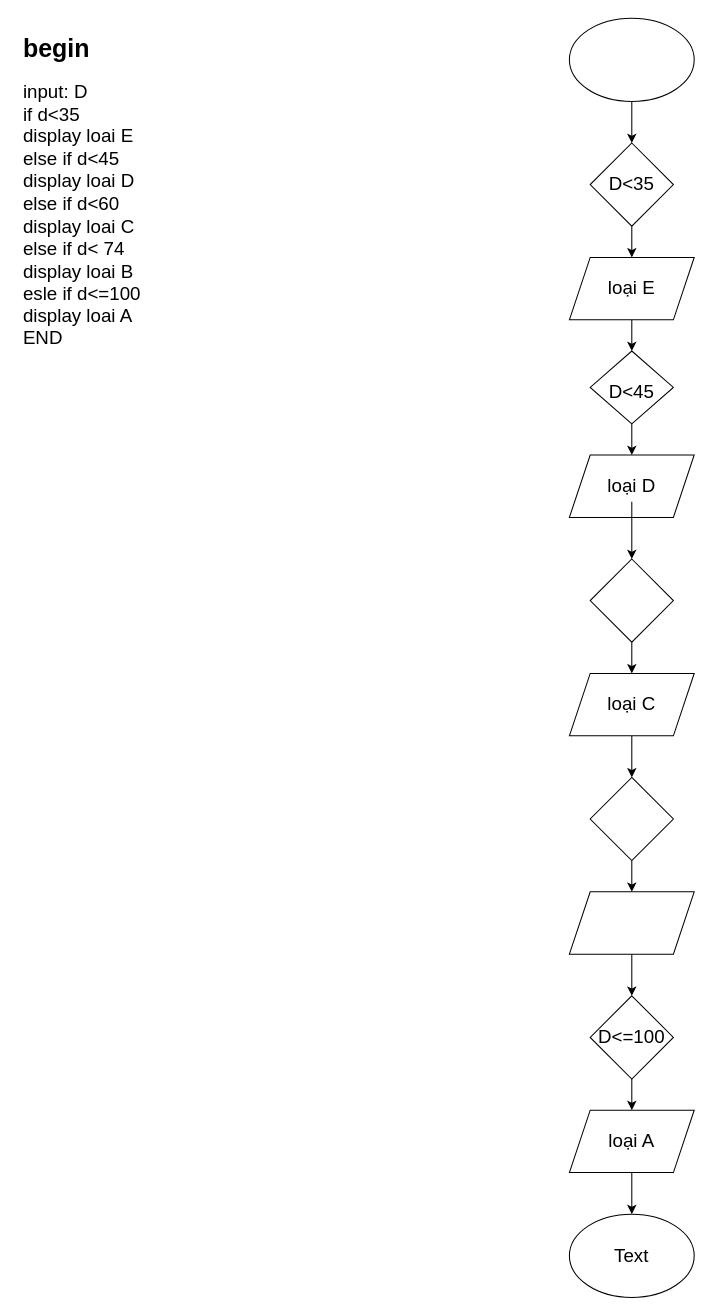
The diagram is 712 pixels wide and 1316 high, and some of its shapes have lost their labels. Here are the shapes that lost their labels. From the top down, the centre of each, then its label:
(x=631, y=59): Begin
(x=631, y=600): D<60
(x=631, y=818): D<75
(x=631, y=922): loại B
